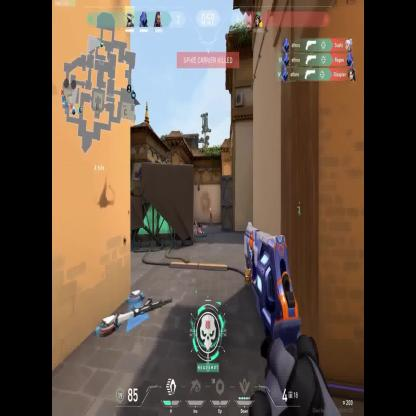enemy: (209, 207, 213, 225)
enemy_head: (210, 208, 212, 210)
